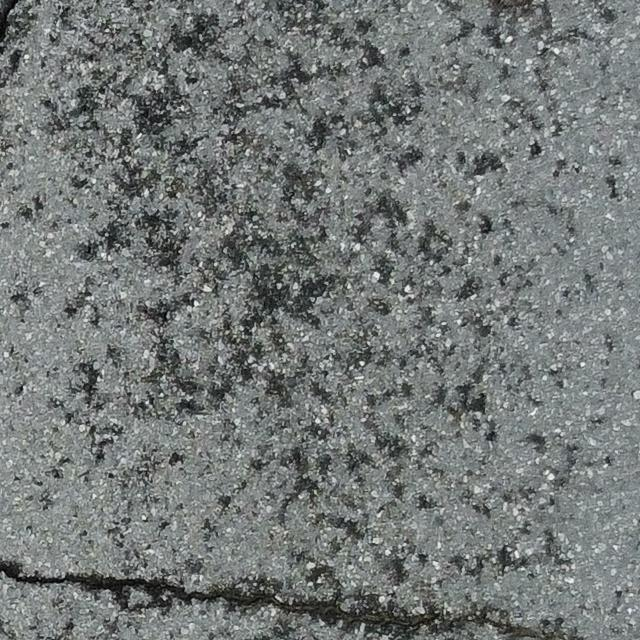TransverseCrack: (1, 563, 580, 640)
